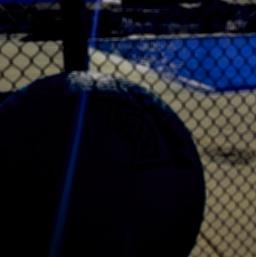algae: (0, 68, 210, 257)
